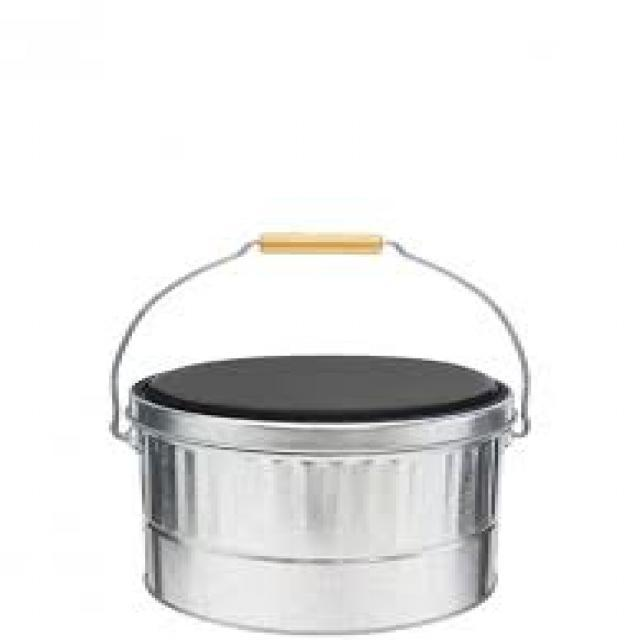recyclable: (122, 353, 516, 638)
